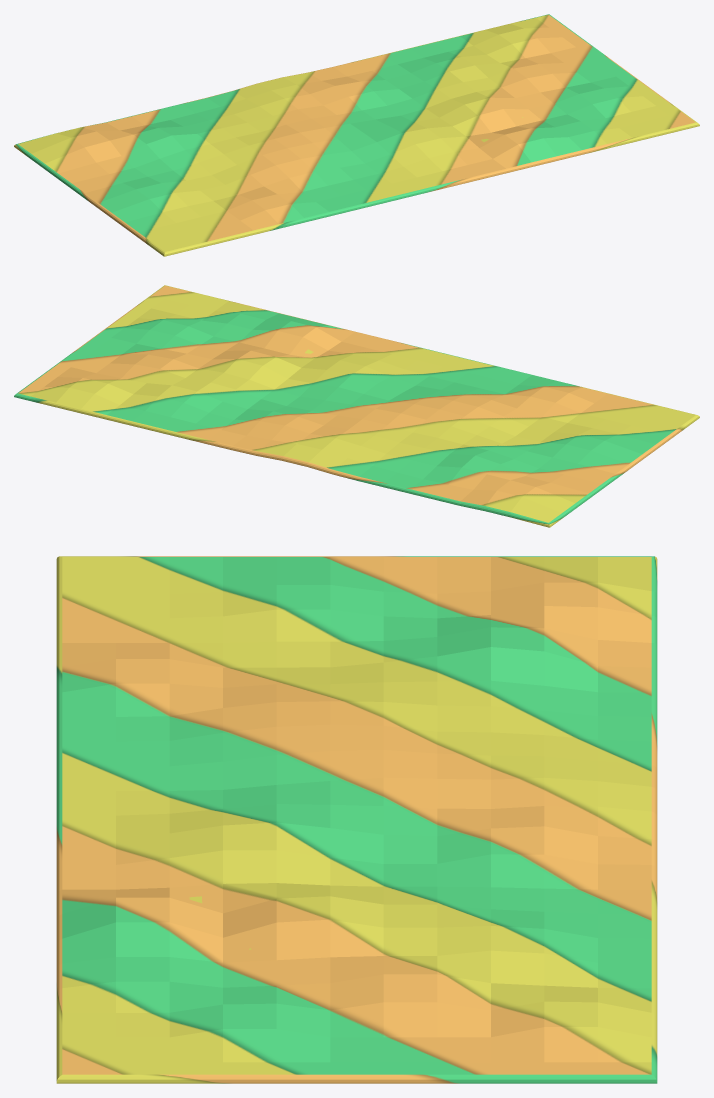
The model's file is Carpet Rectangle.fbx.
3 views of the same model, one above another, from view 1: azimuth 30°, elevation 25°; view 2: azimuth 150°, elevation 25°; view 3: azimuth 270°, elevation 25° (orthographic). The views are drawn at different scales.
Visible parts, largest first — view 1: CarpetRect; view 2: CarpetRect; view 3: CarpetRect.
Boxes of the visible parts, x1,y1,x2,y2 form: CarpetRect: [14, 14, 699, 256]; CarpetRect: [14, 285, 699, 527]; CarpetRect: [56, 556, 657, 1083].
Size of the model in its own units: 350 by 8.46 by 170.
